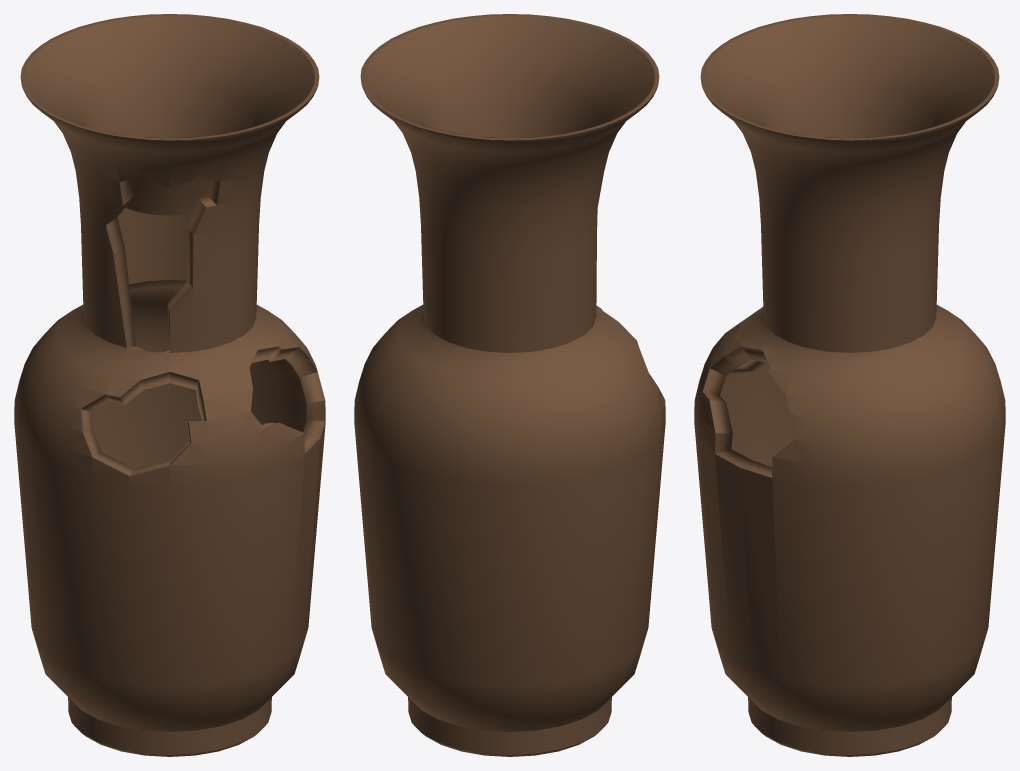
File: Vase_1-3.fbx
The picture shows the model from 3 angles, left to right: view 1: azimuth 30°, elevation 25°; view 2: azimuth 150°, elevation 25°; view 3: azimuth 270°, elevation 25°; orthographic projection.
Visible parts, largest first — view 1: Vase_1-3; view 2: Vase_1-3; view 3: Vase_1-3.
Boxes of the visible parts, x1,y1,x2,y2 form: Vase_1-3: [14, 14, 325, 756]; Vase_1-3: [354, 14, 665, 756]; Vase_1-3: [694, 14, 1005, 756].
Bounding box in the file's own units: 44.92 × 102 × 44.92.
Materials: 1 (1 with a texture image).
